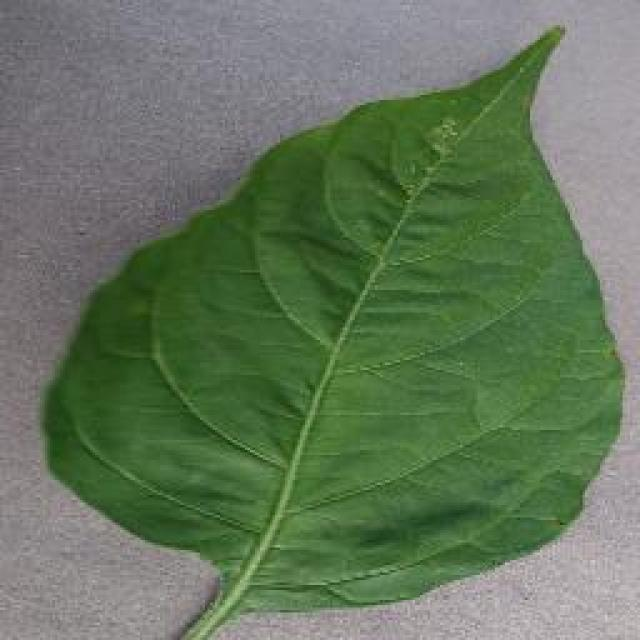Chilli_Healthy: (37, 22, 625, 638)
